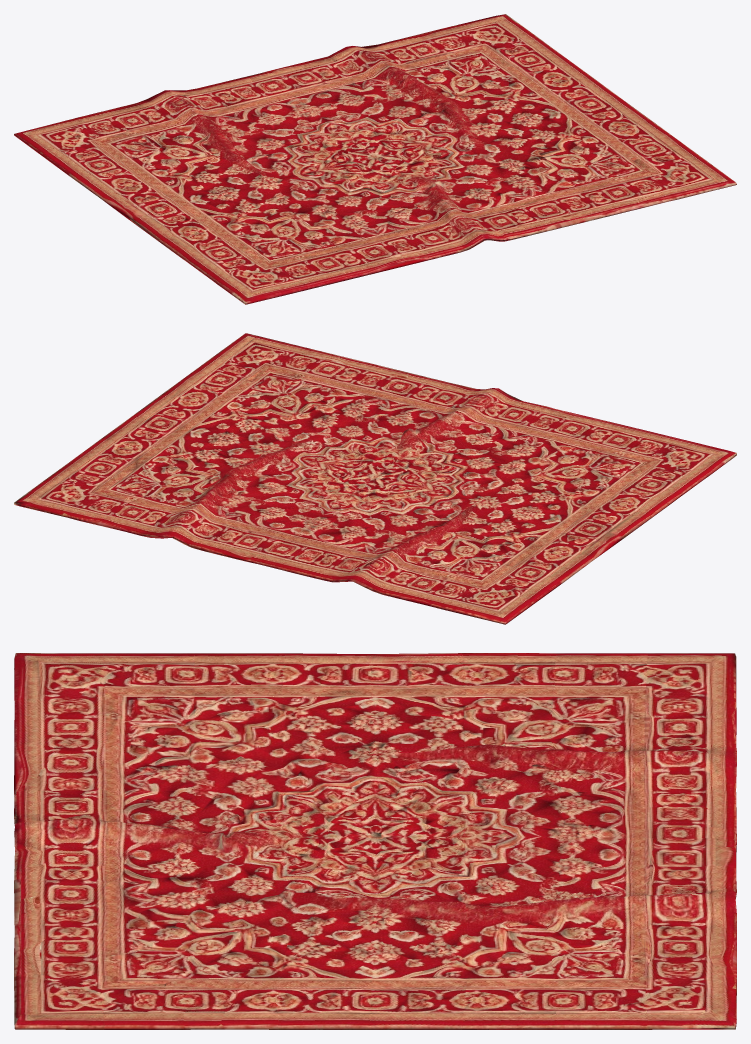
The model's file is carpet.glb.
The picture shows the model from 3 angles, top to bottom: view 1: azimuth 30°, elevation 25°; view 2: azimuth 150°, elevation 25°; view 3: azimuth 270°, elevation 25°; orthographic projection. The views are drawn at different scales.
Visible parts, largest first — view 1: mesh_node; view 2: mesh_node; view 3: mesh_node.
Boxes of the visible parts, <box> form: mesh_node: <box>14,14,736,304</box>; mesh_node: <box>14,333,736,624</box>; mesh_node: <box>14,653,736,1029</box>.
Size of the model in its own units: 1.9 by 0.0483 by 1.55.
Materials: 1 (1 with a texture image).
